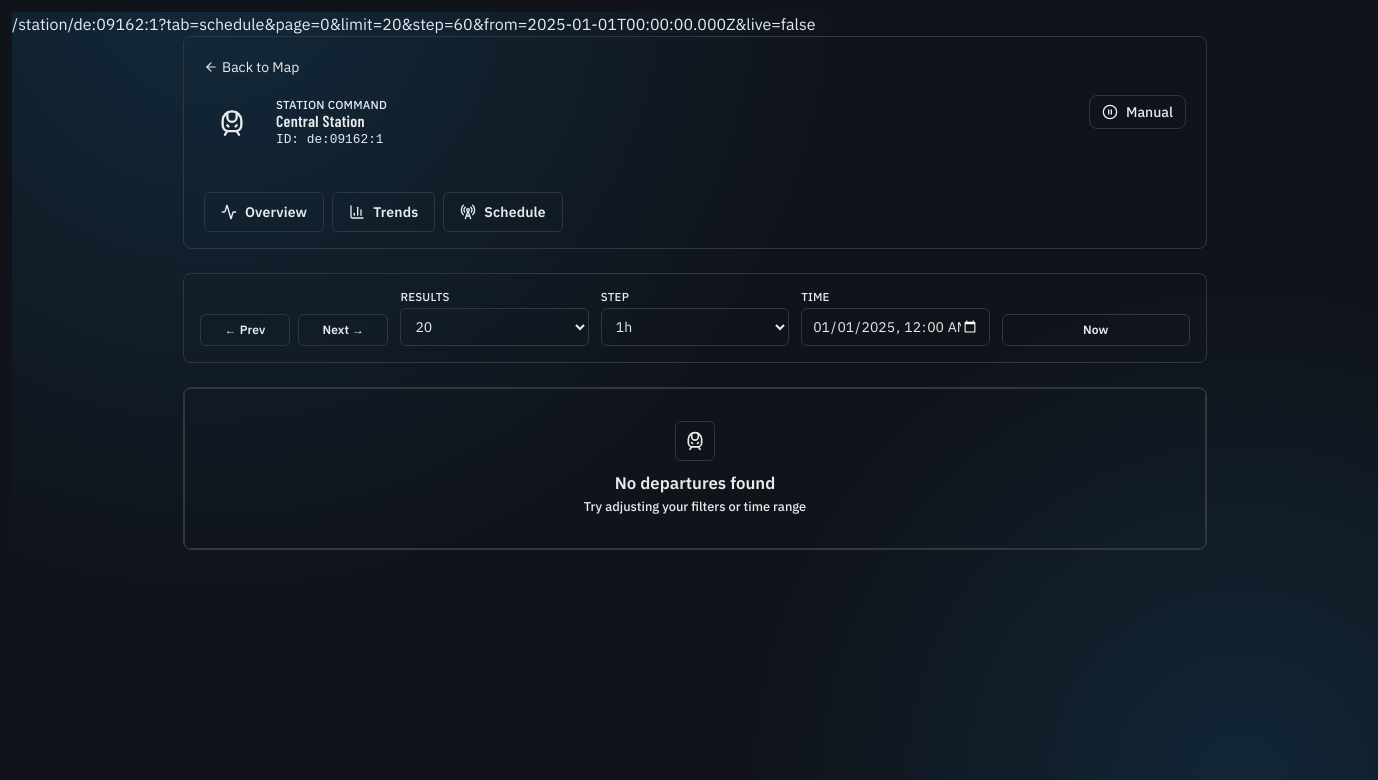
StationPage › paginates schedule via from time when set
Expected: the text with test id "location" shows "tab=schedule", [12,14,816,34]
Expected: the text with test id "location" shows "from=2025-01-01T00:00:00.000Z", [12,14,816,34]
Click the button "Next →" at (343,330), box [298,314,388,346]
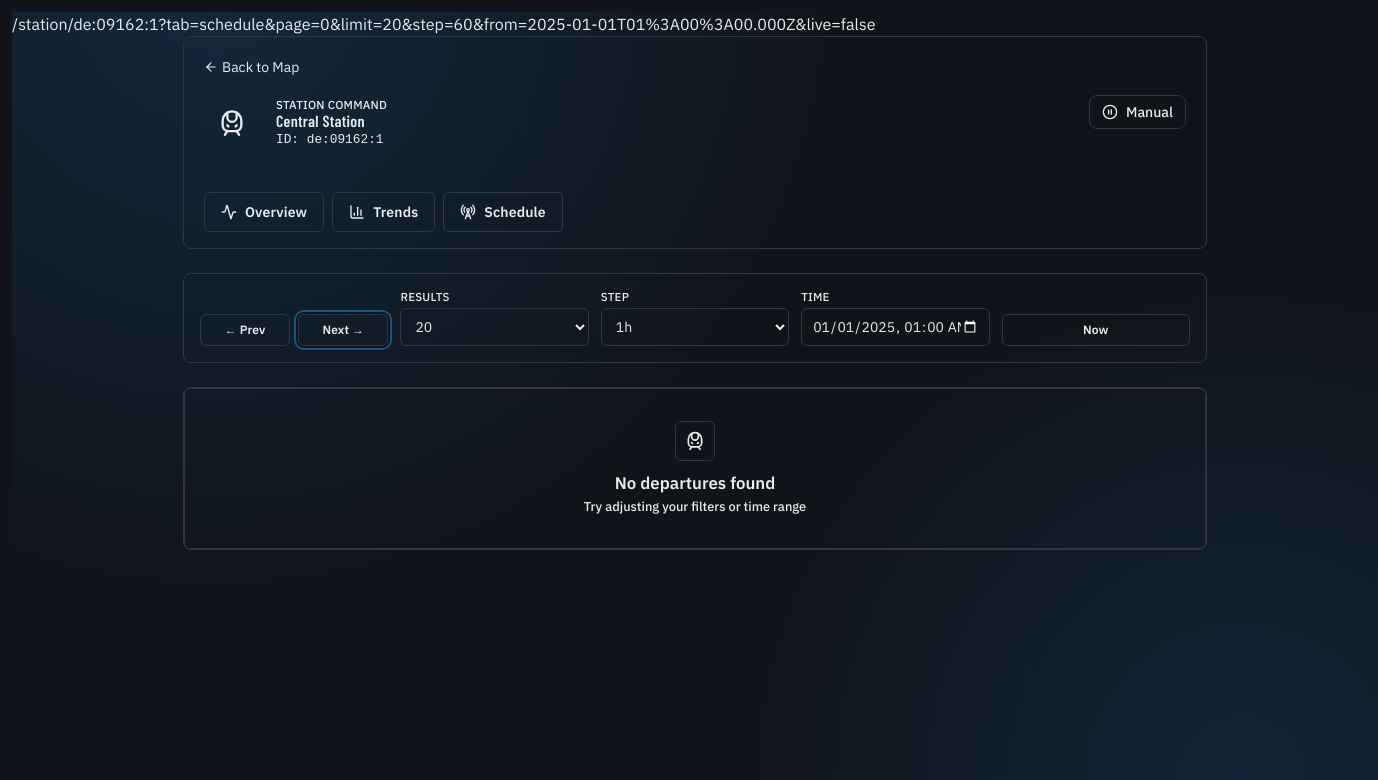
Expected: the text with test id "location" shows "live=false", [12,14,876,34]
Expected: the text with test id "location" shows "from=2025-01-01T01%3A00%3A00.000Z", [12,14,876,34]
